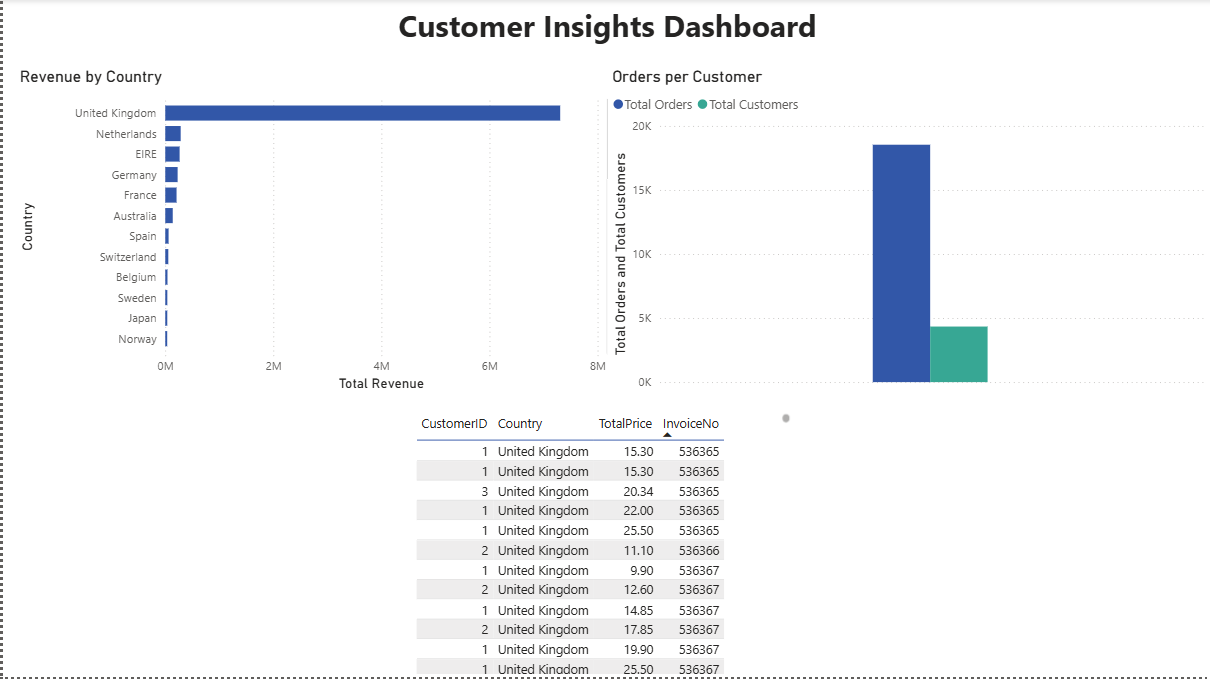

The dashboard page shown, as its layout file describes it:
{"tool":"powerbi","page":{"name":"Page 4","canvas":[1280,720],"ordinal":3},"visuals":[{"type":"clusteredBarChart","title":"Revenue by Country","fields":{"Y":["cleaned_retail.Total Revenue"],"Category":["cleaned_retail.Country"]},"box":[12.7,71.6,639.4,348.3],"z":0},{"type":"clusteredColumnChart","title":"Orders per Customer","fields":{"Y":["cleaned_retail.Total Orders","cleaned_retail.Total Customers"]},"box":[641,71.6,639.4,348.3],"z":1000},{"type":"tableEx","fields":{"Values":["CountNonNull(cleaned_retail.CustomerID)","cleaned_retail.Country","cleaned_retail.TotalPrice","cleaned_retail.InvoiceNo"]},"box":[432.6,434.2,407.2,286.3],"z":2000},{"type":"textbox","box":[1.6,0,1278.9,71.6],"z":2001}]}

Visuals, with their boxes in screenshot pixels (x1, y1, x2, y2), scaled from the page's 1280x720 canvas onto the 1210x679 screenshot:
"Revenue by Country" clusteredBarChart: [x1=12, y1=68, x2=616, y2=396]
"Orders per Customer" clusteredColumnChart: [x1=606, y1=68, x2=1209, y2=396]
tableEx - CountNonNull(cleaned_retail.CustomerID) x cleaned_retail.Country: [x1=409, y1=409, x2=794, y2=678]
textbox: [x1=2, y1=0, x2=1209, y2=68]
